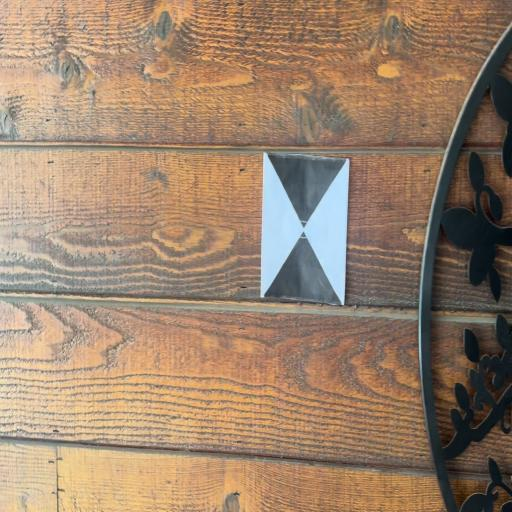target: (262, 154, 346, 303)
